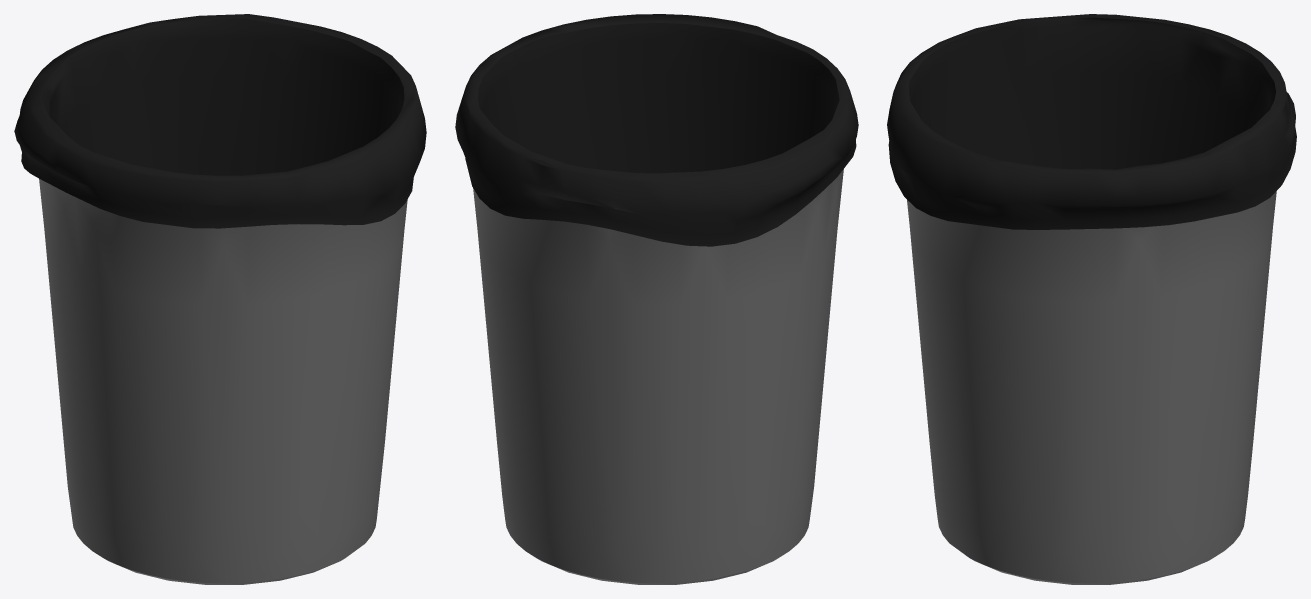
File: Trashcan.FBX
The picture shows the model from 3 angles, left to right: view 1: azimuth 30°, elevation 25°; view 2: azimuth 150°, elevation 25°; view 3: azimuth 270°, elevation 25°; orthographic projection.
Parts seen in each view (by area): view 1: Trashcan; view 2: Trashcan; view 3: Trashcan.
Part boxes in pixels (x1,y1,x2,y2): Trashcan: (14,14,426,584); Trashcan: (455,14,858,584); Trashcan: (887,14,1296,584).
Size of the model in its own units: 32.64 by 38.88 by 32.57.
1 material, 1 textured.
